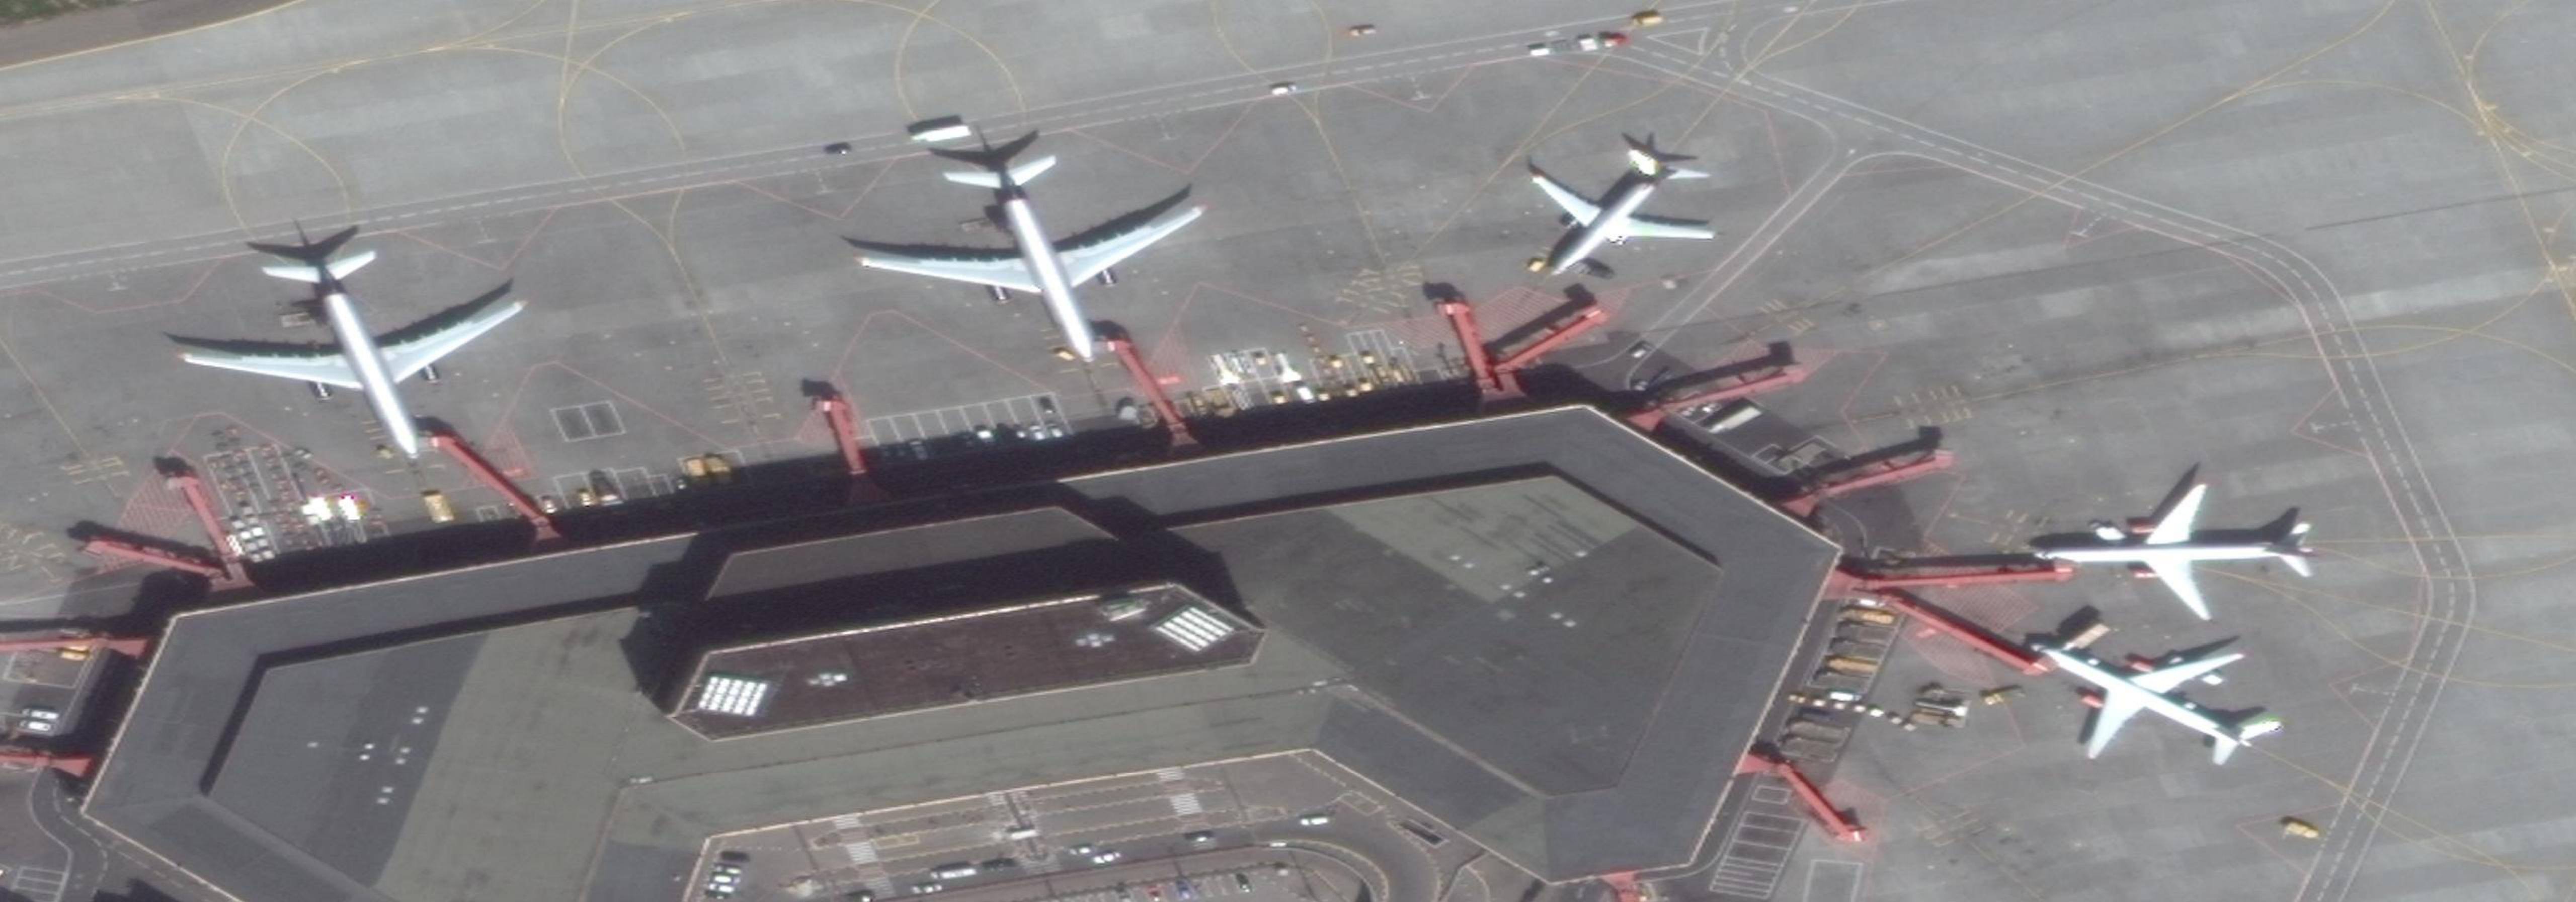plane: (826, 122, 1247, 394), (168, 220, 554, 498), (2004, 575, 2307, 815), (1474, 94, 1751, 325), (2037, 480, 2316, 624)
